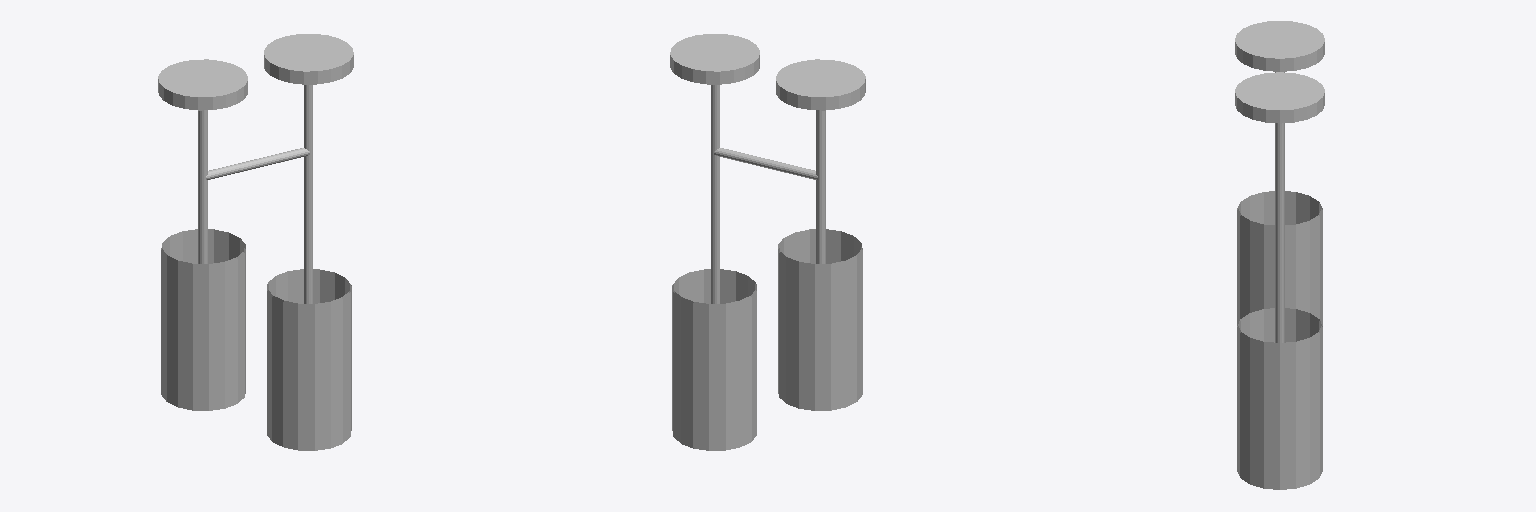
The model's file is lamp.obj.
The picture shows the model from 3 angles: view 1: azimuth 30°, elevation 25°; view 2: azimuth 150°, elevation 25°; view 3: azimuth 270°, elevation 25°; orthographic projection.
Parts seen in each view (by area): view 1: pCylinder12 polySurface2, pCylinder12 polySurface4, pCylinder12 polySurface11, pCylinder12 polySurface10, pCylinder12 polySurface5, pCylinder12 polySurface3, pCylinder12 polySurface7, polySurface1 pCylinder12, pCylinder12 polySurface9; view 2: pCylinder12 polySurface2, pCylinder12 polySurface4, pCylinder12 polySurface11, pCylinder12 polySurface10, pCylinder12 polySurface5, pCylinder12 polySurface3, pCylinder12 polySurface7, polySurface1 pCylinder12, pCylinder12 polySurface9; view 3: pCylinder12 polySurface4, pCylinder12 polySurface2, pCylinder12 polySurface10, pCylinder12 polySurface11, pCylinder12 polySurface7, pCylinder12 polySurface5, pCylinder12 polySurface3.
Part boxes in pixels (x1,y1,x2,y2): pCylinder12 polySurface2: (161, 238, 245, 410); pCylinder12 polySurface4: (267, 281, 351, 449); pCylinder12 polySurface11: (264, 34, 353, 84); pCylinder12 polySurface10: (158, 59, 247, 110); pCylinder12 polySurface5: (268, 269, 350, 450); pCylinder12 polySurface3: (162, 229, 244, 410); pCylinder12 polySurface7: (304, 85, 312, 303); polySurface1 pCylinder12: (198, 110, 207, 263); pCylinder12 polySurface9: (206, 148, 309, 179); pCylinder12 polySurface2: (778, 238, 862, 410); pCylinder12 polySurface4: (672, 281, 756, 449); pCylinder12 polySurface11: (670, 34, 759, 84); pCylinder12 polySurface10: (776, 59, 865, 110); pCylinder12 polySurface5: (673, 269, 755, 450); pCylinder12 polySurface3: (779, 229, 861, 410); pCylinder12 polySurface7: (711, 85, 719, 303); polySurface1 pCylinder12: (816, 110, 825, 263); pCylinder12 polySurface9: (714, 148, 817, 179); pCylinder12 polySurface4: (1237, 319, 1322, 488); pCylinder12 polySurface2: (1237, 202, 1322, 325); pCylinder12 polySurface10: (1235, 21, 1324, 71); pCylinder12 polySurface11: (1235, 72, 1324, 123); pCylinder12 polySurface7: (1275, 123, 1284, 342); pCylinder12 polySurface5: (1238, 308, 1321, 489); pCylinder12 polySurface3: (1238, 191, 1321, 226).
Size of the model in its own units: 931 by 1841 by 396.